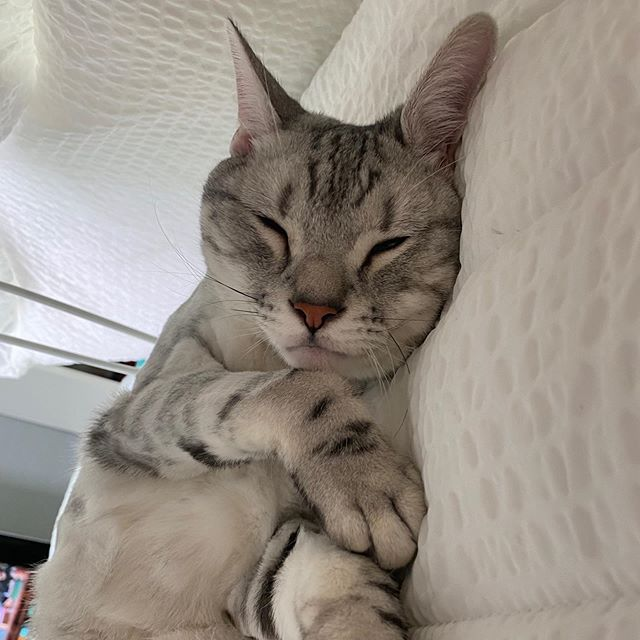cat: (203, 21, 496, 384)
